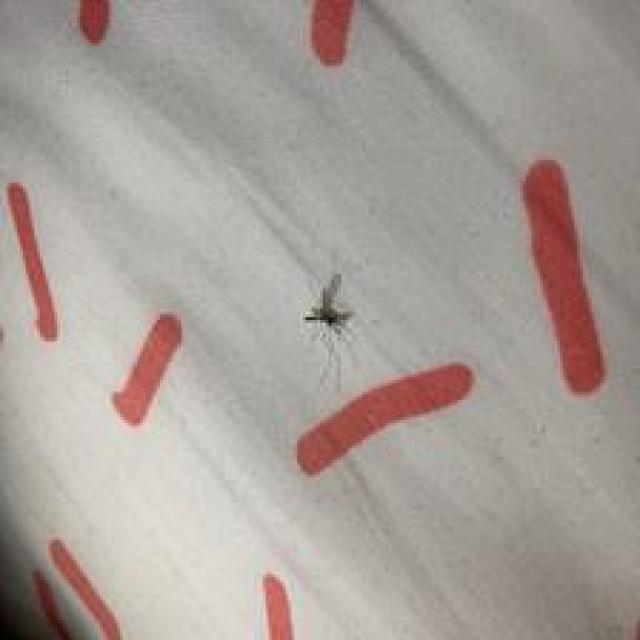Culex: (303, 272, 360, 388)
